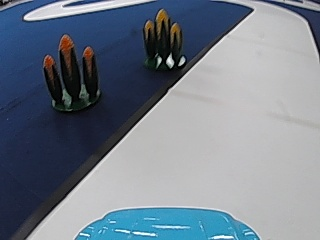corn: (42, 38, 103, 110), (141, 7, 186, 71)
